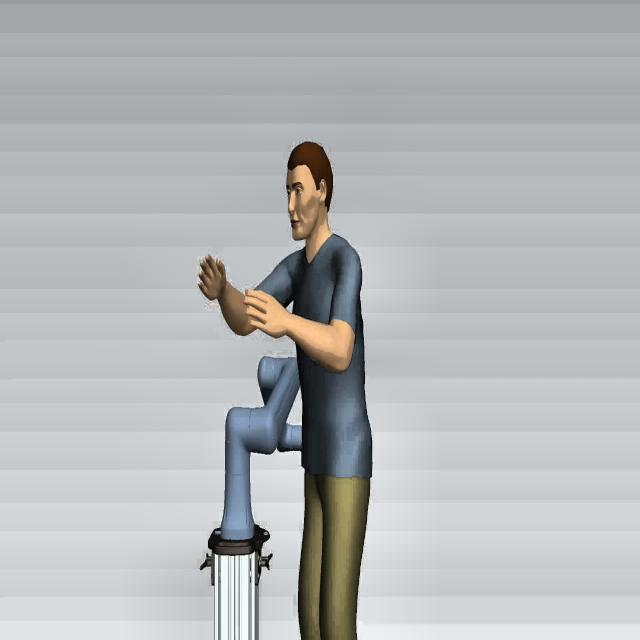robot: (199, 354, 303, 638)
